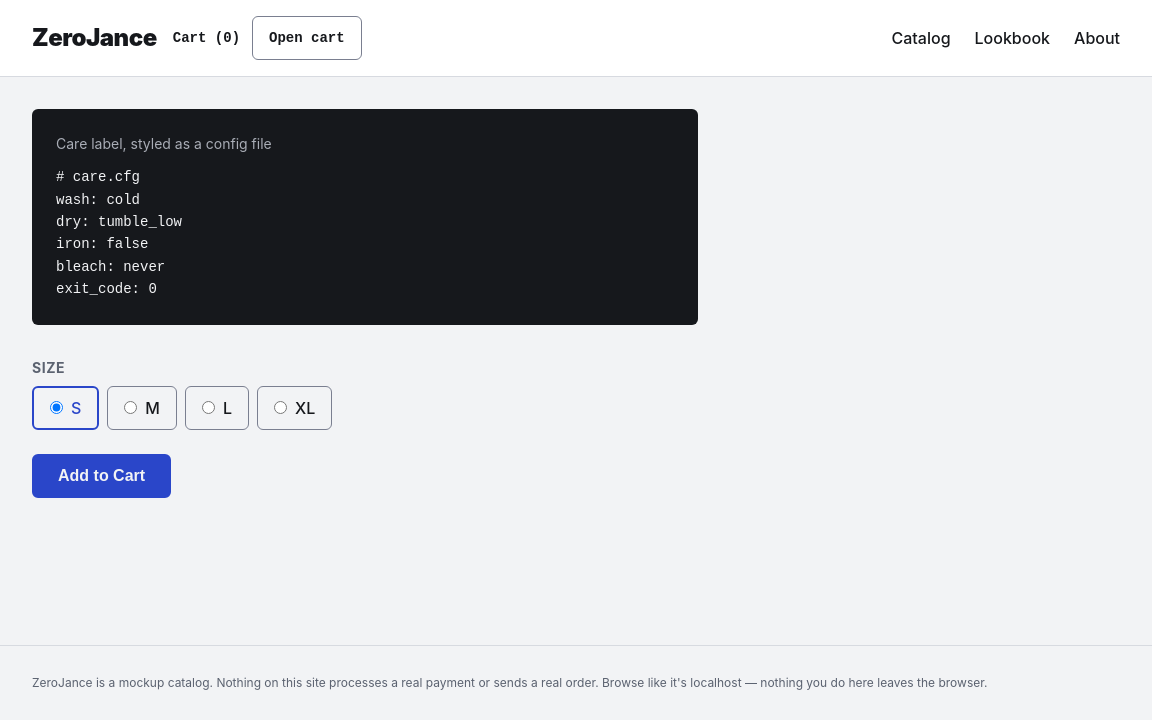
Test: App cart (board task E3 — mock cart core) › updates the header cart count when a product is added to cart
The width and height of the screenshot is (1152, 720).
(page scrolled)
Expected: the text "Cart (0)" is shown, [173,28,240,48]
Step 1. Click the button "Add to Cart" → (102,476), box [32,454,171,498]
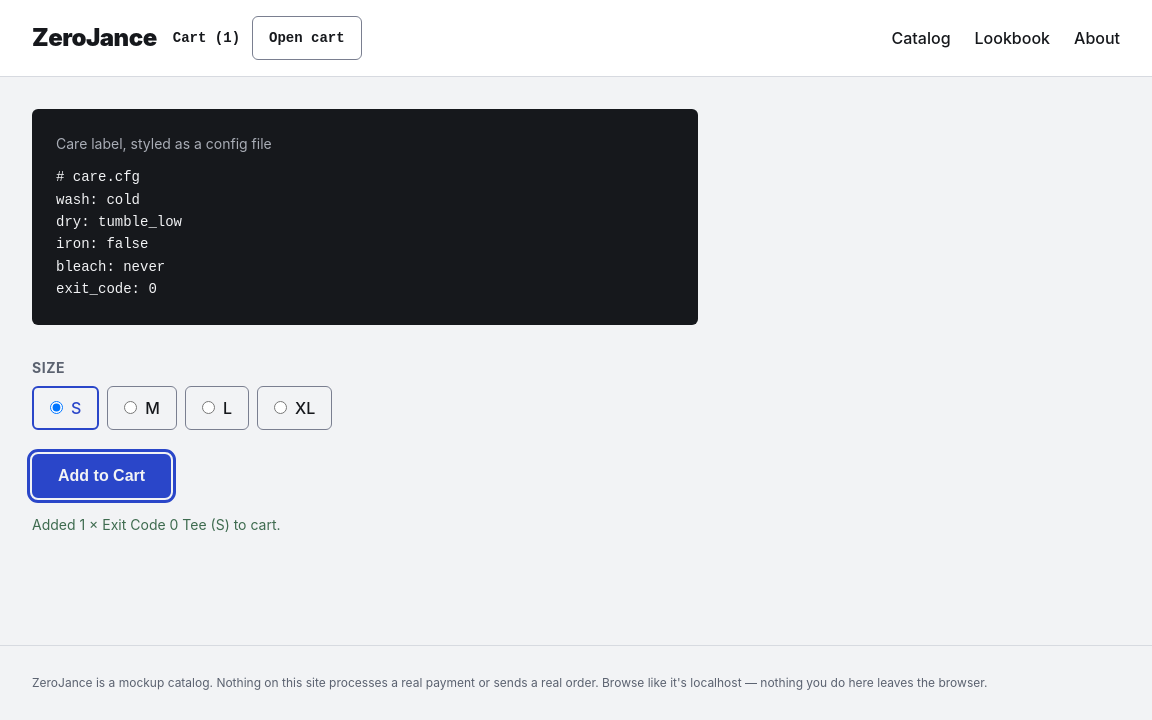
Result: the text "Cart (1)" is shown at [173,28,240,48]
